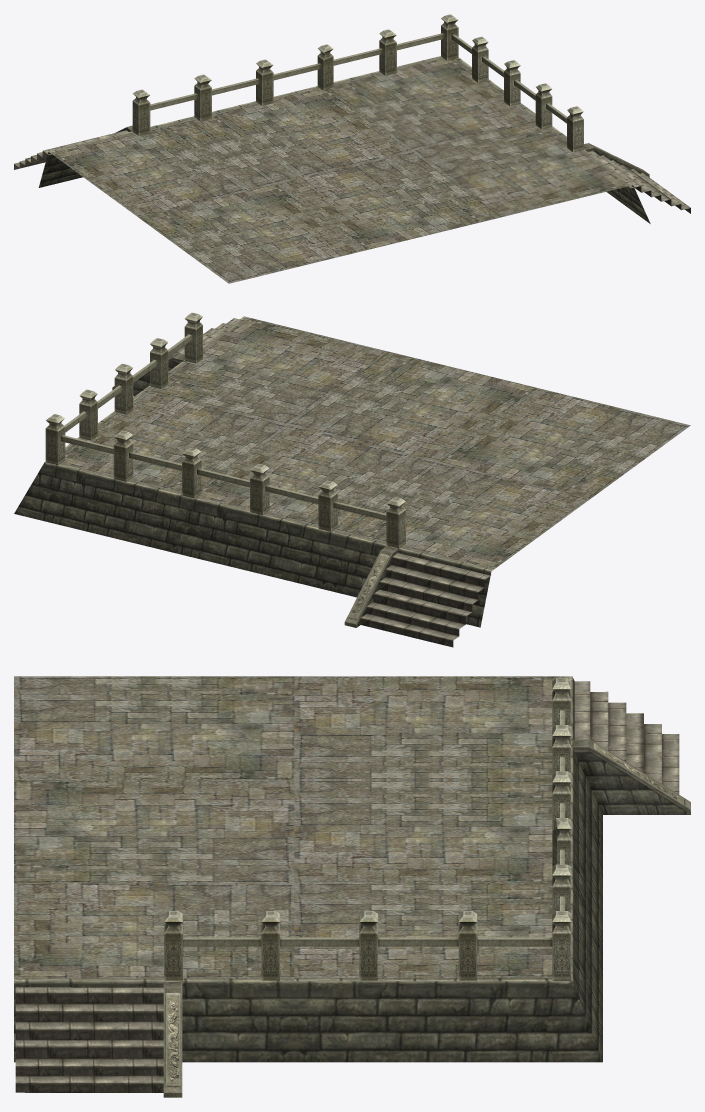
The model's file is ob-tower01_04.fbx.
3 renders of one model, top to bottom at view 1: azimuth 30°, elevation 25°; view 2: azimuth 150°, elevation 25°; view 3: azimuth 270°, elevation 25°, orthographic. The views are drawn at different scales.
Visible parts, largest first — view 1: ob-013-tower01_04; view 2: ob-013-tower01_04; view 3: ob-013-tower01_04.
Boxes of the visible parts, x1,y1,x2,y2 form: ob-013-tower01_04: (14,14,690,283); ob-013-tower01_04: (14,312,690,647); ob-013-tower01_04: (14,676,690,1097).
Bounding box in the file's own units: 42.51 × 7.32 × 34.34.
